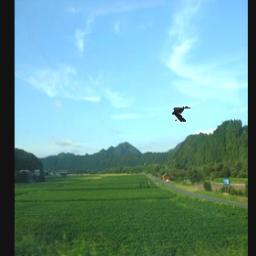Crow: (171, 105, 190, 122)
